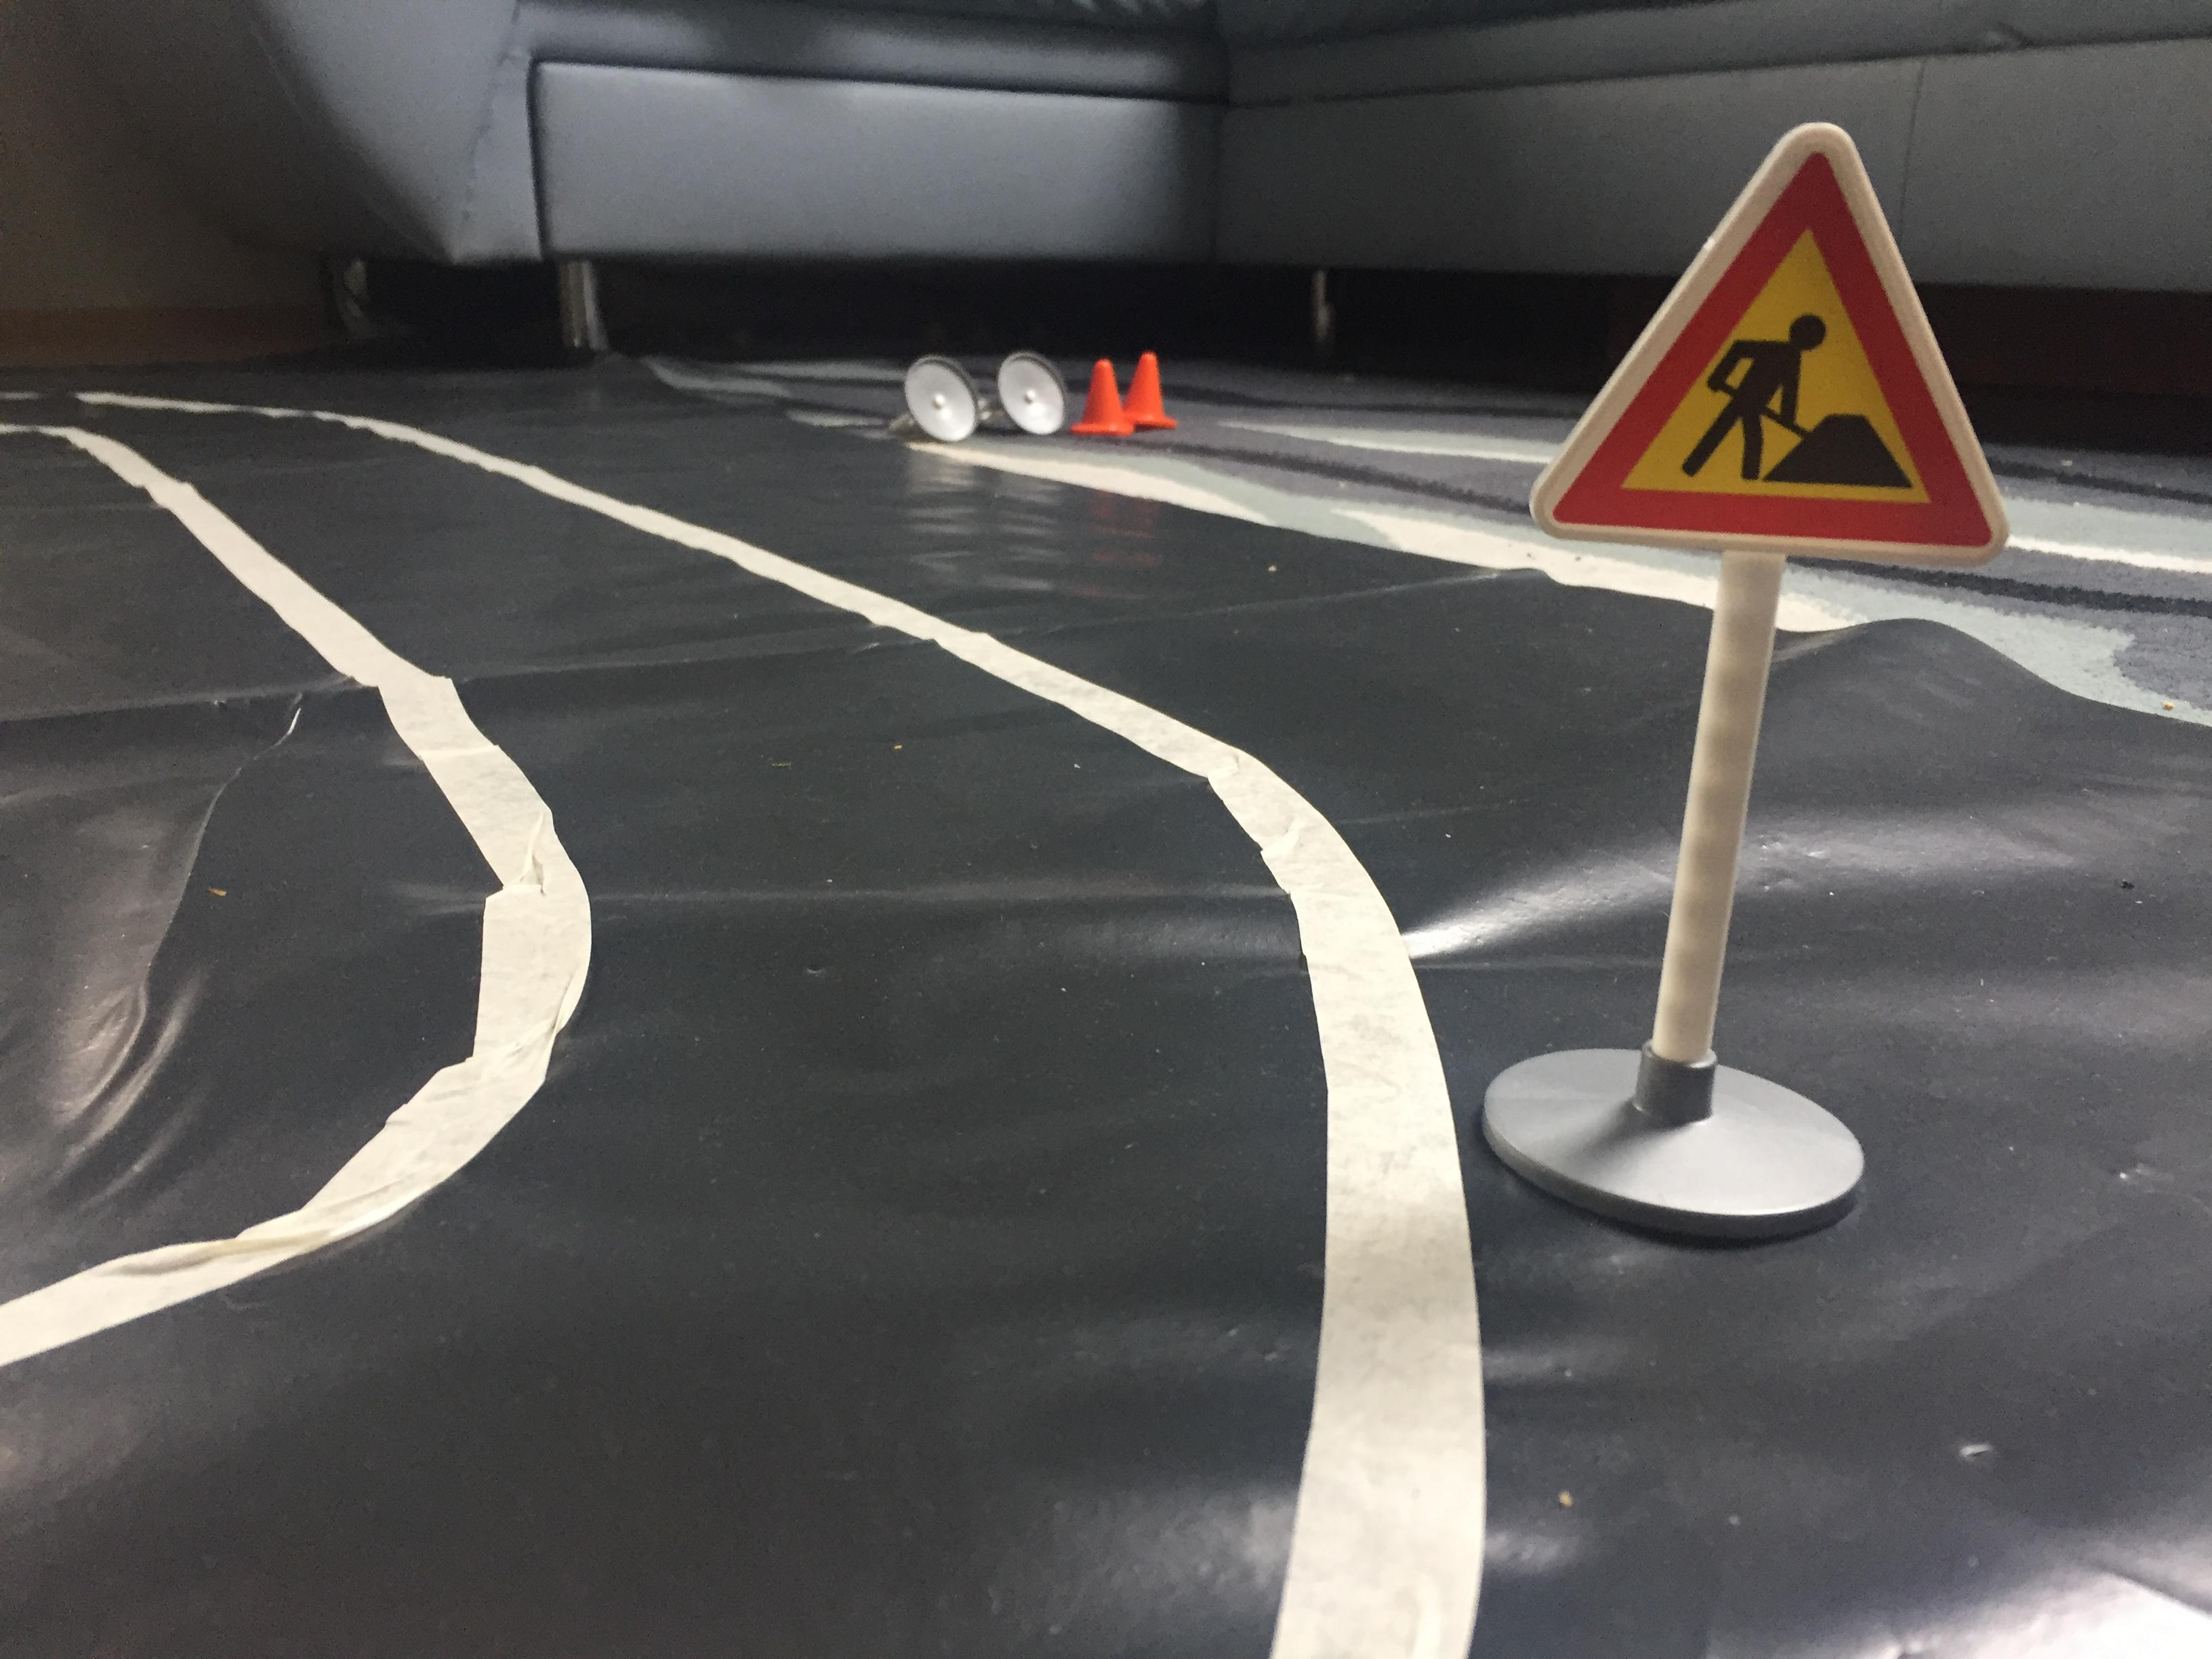work: (1517, 98, 2026, 577)
